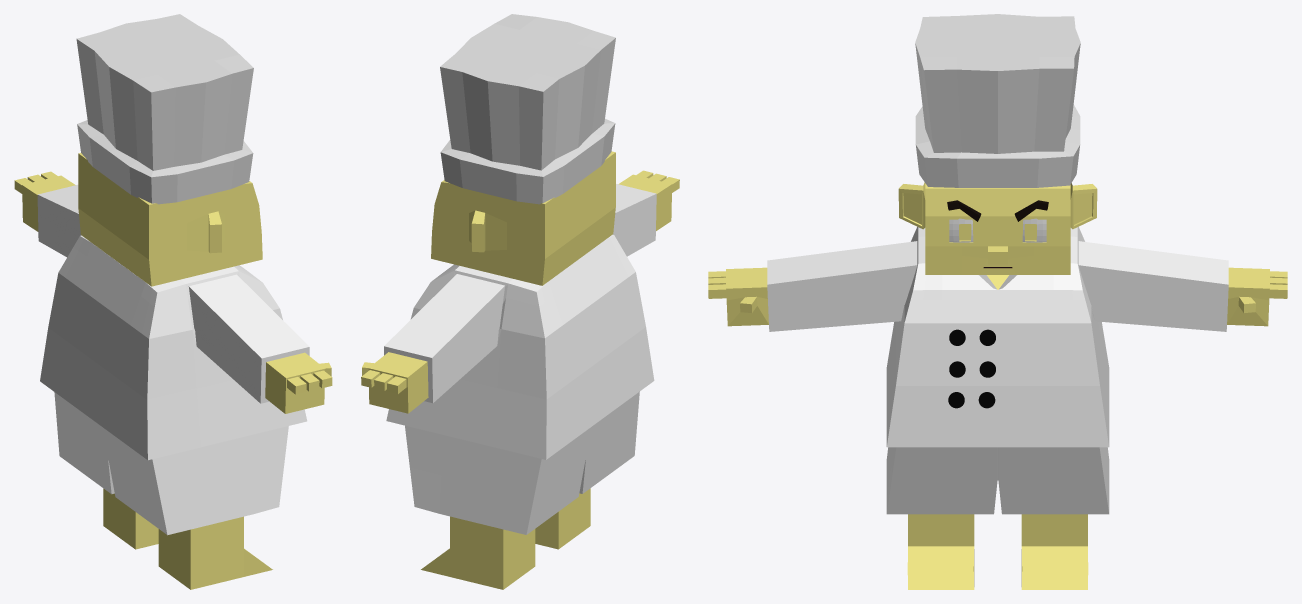
Rendered from ChefMall.fbx.
3 views of the same model, side by side, from view 1: azimuth 30°, elevation 25°; view 2: azimuth 150°, elevation 25°; view 3: azimuth 270°, elevation 25° (orthographic). The views are drawn at different scales.
Parts seen in each view (by area): view 1: Cube, Cube.002, Cube.001; view 2: Cube, Cube.002, Cube.001; view 3: Cube, Cube.002, Cube.001.
Part boxes in pixels (x1,y1,x2,y2): Cube: [14, 171, 332, 589]; Cube.002: [76, 14, 253, 204]; Cube.001: [78, 153, 262, 286]; Cube: [361, 170, 679, 589]; Cube.002: [440, 14, 615, 204]; Cube.001: [431, 151, 615, 285]; Cube: [708, 227, 1287, 589]; Cube.002: [915, 14, 1080, 187]; Cube.001: [898, 182, 1097, 274].
Size of the model in its own units: 118 by 355 by 362.
